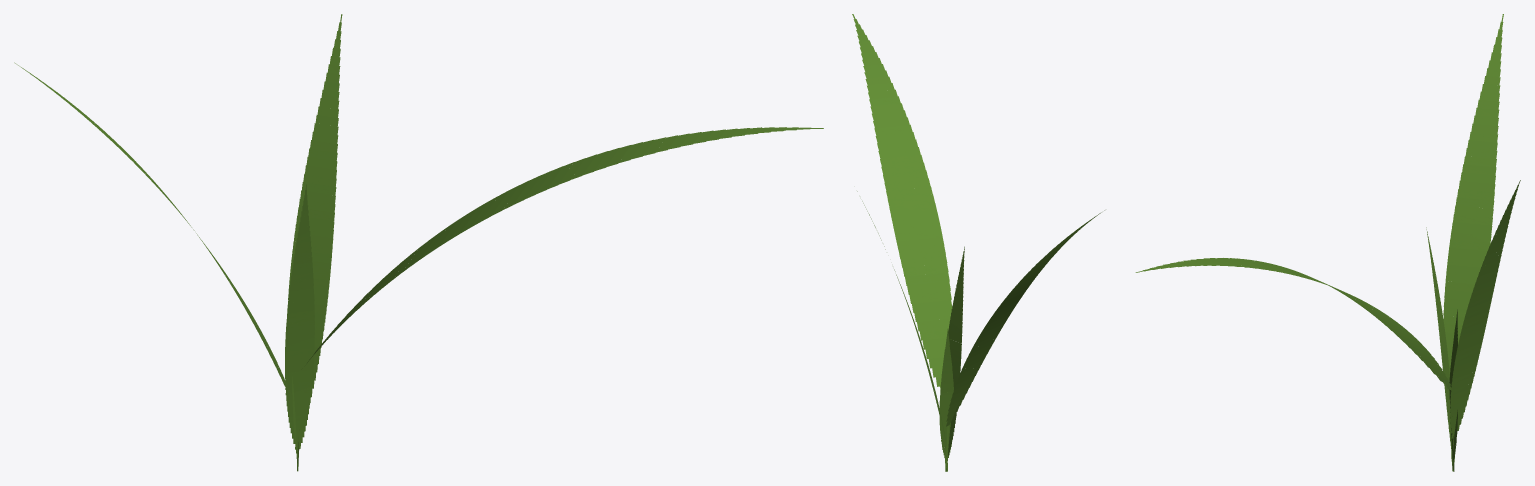
Rendered from maize_001_day_050.dae.
3 views of the same model, side by side, from view 1: azimuth 30°, elevation 25°; view 2: azimuth 150°, elevation 25°; view 3: azimuth 270°, elevation 25° (orthographic). The views are drawn at different scales.
Visible parts, largest first — view 1: node; view 2: node; view 3: node.
Part boxes in pixels (x1=…): node: x1=14, y1=14, x2=823, y2=471; node: x1=852, y1=14, x2=1104, y2=471; node: x1=1135, y1=14, x2=1520, y2=471.
Size of the model in its own units: 0.3347 by 0.2463 by 0.2401.
1 material, 1 textured.
